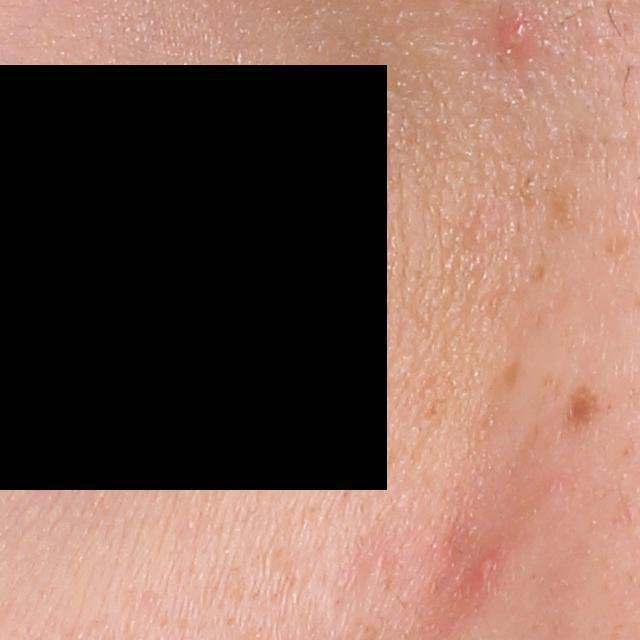melasma: (498, 357, 524, 392), (527, 262, 548, 283)
nevus: (563, 389, 603, 429)
